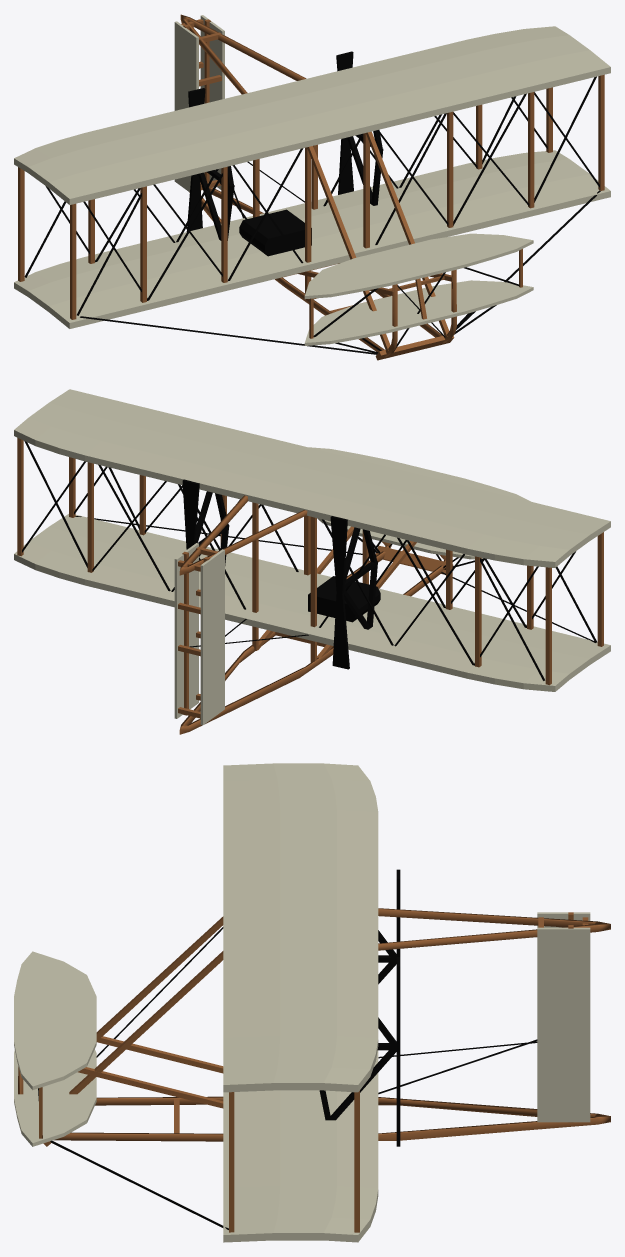
Rendered from KittyHawk.fbx.
3 renders of one model, top to bottom at view 1: azimuth 30°, elevation 25°; view 2: azimuth 150°, elevation 25°; view 3: azimuth 270°, elevation 25°, orthographic. The views are drawn at different scales.
Parts seen in each view (by area): view 1: Cube.014; view 2: Cube.014; view 3: Cube.014.
Part boxes in pixels (x1,y1,x2,y2): Cube.014: [14, 14, 610, 360]; Cube.014: [14, 389, 610, 734]; Cube.014: [14, 763, 610, 1242].
Bounding box in the file's own units: 1231 × 376 × 972.
